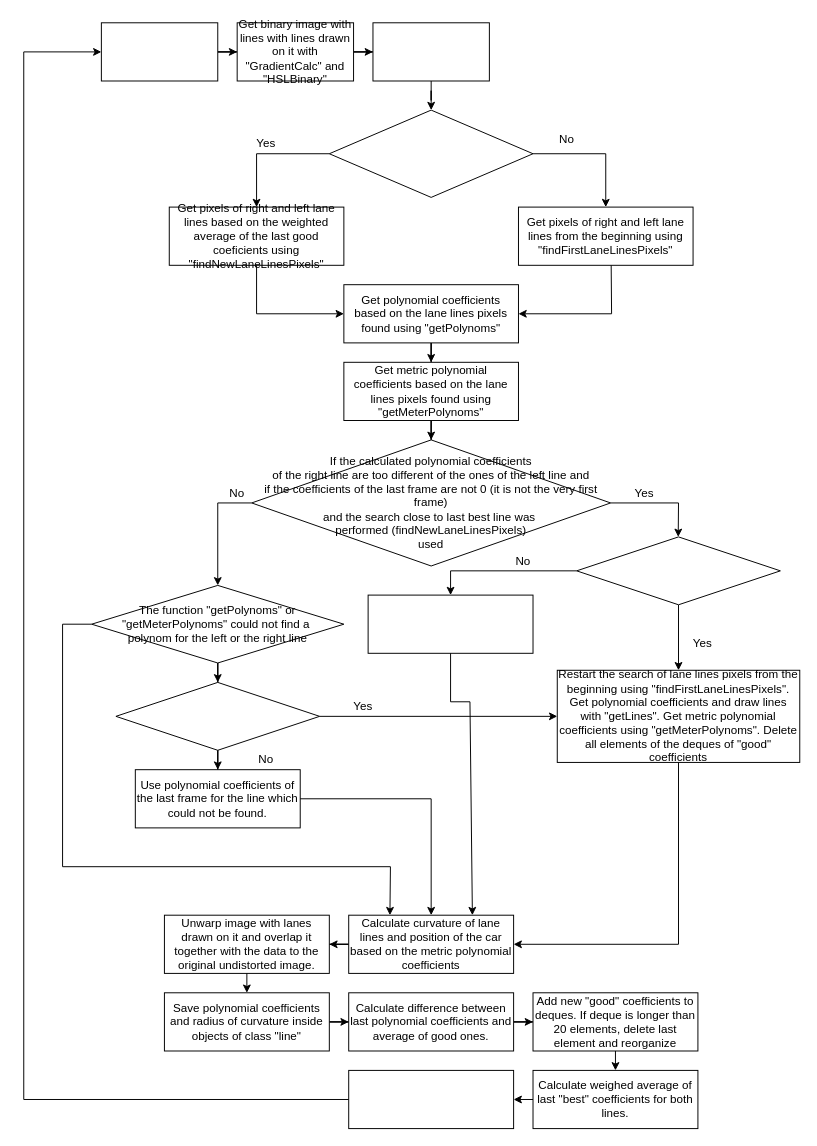
The diagram is 817 pixels wide and 1146 high, and some of its shapes have lost their labels. Here are the shapes that lost their labels. From the top down, the centre of each, then its label:
(159,51): Undistort frame with "UndistortImage"
(430,51): Warp binary image (WarpPolygonToSquare)
(430,153): Do the deques of "good" coefficients for both lines have more than 5 elements
(678,570): This happened in more than 30 consecutive frames
(450,623): Use polynomial coefficients of the last frame for both lines
(217,715): This happened in more than 5 consecutive frames
(431,1099): Save coefficients of last frame to be used for the next one if necessary
